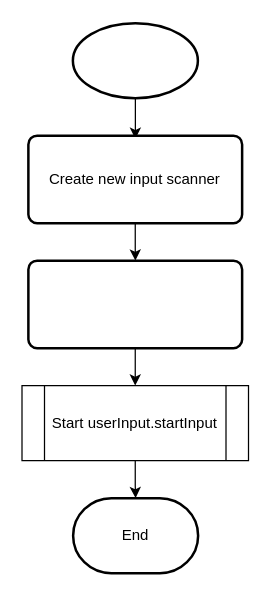
The diagram is 271 pixels wide and 595 high, and some of its shapes have lost their labels. Here are the shapes that lost their labels. From the top down, the centre of each, then its label:
At point (134, 60): "main.java Start".
At point (134, 304): "Set userInput = userInterface using scanner as input".
